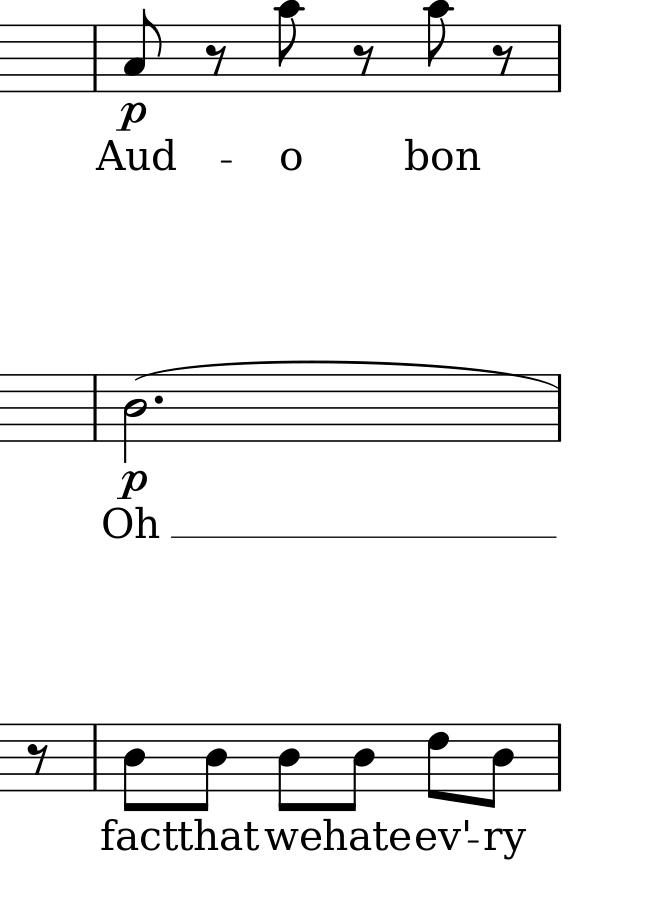2_4: (121, 372, 148, 463)
8_10: (421, 1, 455, 95), (274, 1, 305, 92)
8_3: (121, 6, 163, 93)
8_4: (193, 720, 229, 814), (345, 722, 376, 815), (485, 722, 515, 810), (121, 721, 148, 815), (275, 721, 301, 815)
8_6: (426, 722, 451, 801)
Rests8: (24, 740, 52, 775), (493, 43, 515, 80), (203, 43, 226, 77), (353, 43, 375, 77)
Single_barline: (549, 26, 567, 91), (86, 26, 103, 91), (87, 724, 103, 790), (550, 376, 566, 440), (551, 723, 566, 789), (88, 375, 102, 442)
Slur: (133, 359, 561, 383)
dot: (152, 392, 165, 408)
p: (115, 99, 148, 135), (117, 469, 153, 501)
